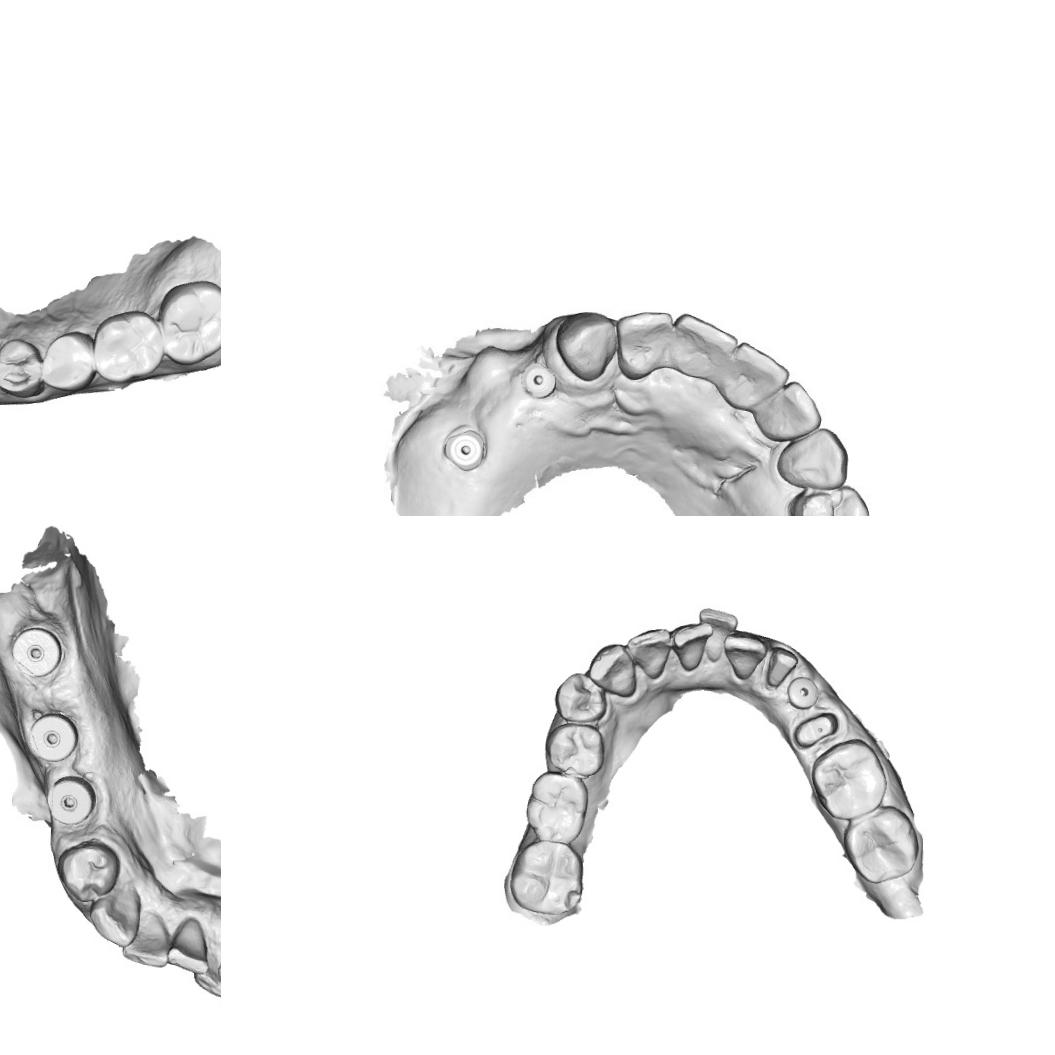canine: (774, 427, 849, 491), (554, 309, 617, 382), (86, 882, 144, 950), (585, 641, 640, 700)
crown: (791, 708, 840, 753), (764, 644, 800, 691)
implant: (438, 418, 492, 474), (24, 710, 80, 763), (45, 773, 98, 827), (11, 626, 62, 678), (516, 359, 563, 404), (785, 674, 821, 712)
incisor: (618, 303, 673, 381), (722, 344, 781, 402), (672, 312, 731, 370), (757, 381, 818, 434), (720, 626, 766, 684), (696, 605, 741, 664), (625, 626, 673, 680), (168, 918, 210, 972), (671, 620, 713, 674), (125, 918, 168, 969), (191, 946, 221, 999)
molar: (836, 802, 921, 885), (809, 736, 889, 823), (507, 838, 587, 918), (90, 304, 165, 386), (155, 277, 221, 368), (522, 767, 592, 846)
premolar: (54, 838, 119, 910), (38, 328, 96, 393), (541, 723, 608, 778), (786, 479, 872, 516), (552, 669, 608, 725), (0, 336, 45, 398)
